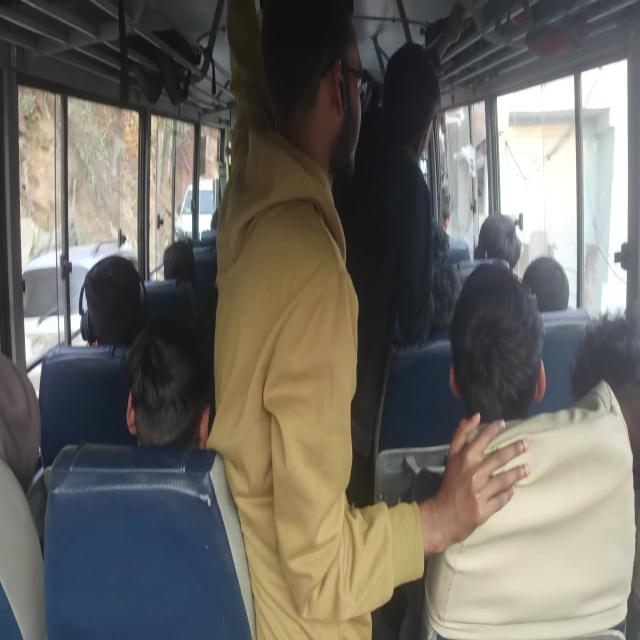person: (269, 4, 354, 150), (126, 327, 212, 445), (463, 276, 527, 424), (0, 349, 40, 516), (582, 344, 640, 458), (520, 250, 574, 323), (76, 257, 124, 335), (393, 61, 432, 156), (467, 213, 514, 270), (431, 262, 468, 322), (200, 277, 229, 349), (416, 208, 460, 255), (161, 237, 196, 292), (202, 213, 230, 253)
